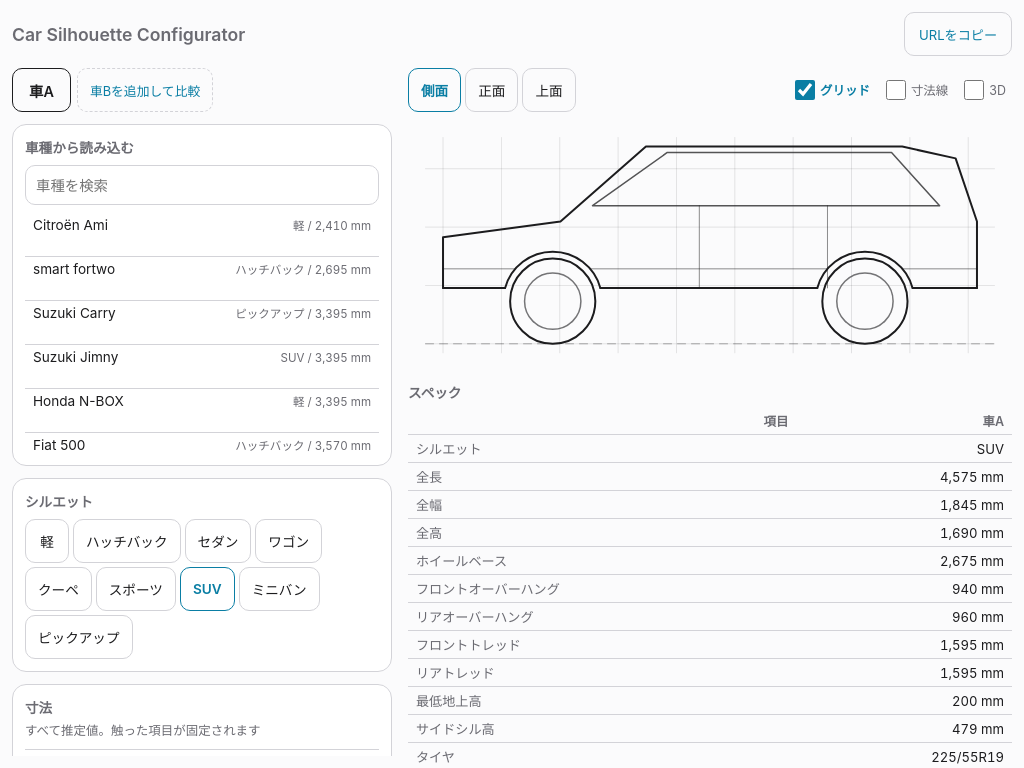
Test: App URL への保存と復元 › コピーに成功すると表示が変わる
What coordinates should you click on to do the following:
click the button "URLをコピー"
I would click on:
 (958, 34)
Its box is [904,12,1012,56].
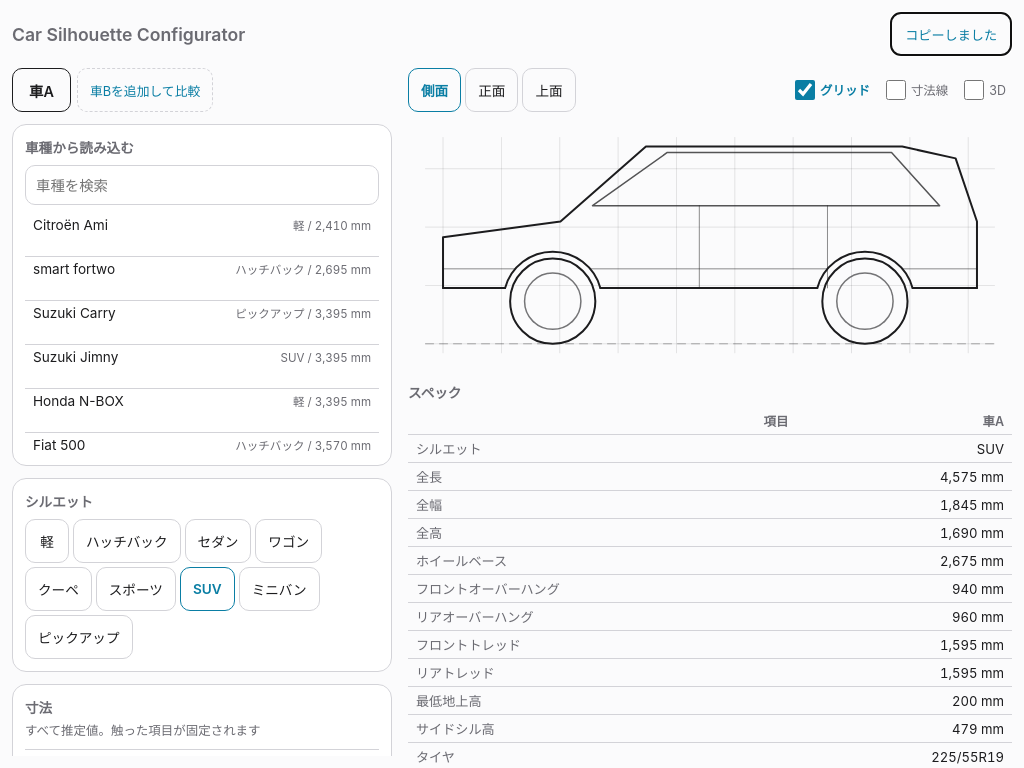
Now the button "コピーしました" is shown, box [890,12,1012,56]
